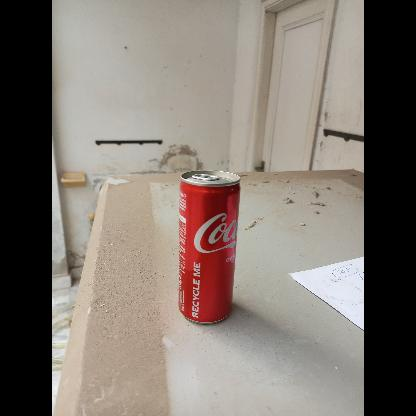Tin_Can: (178, 170, 240, 324)
